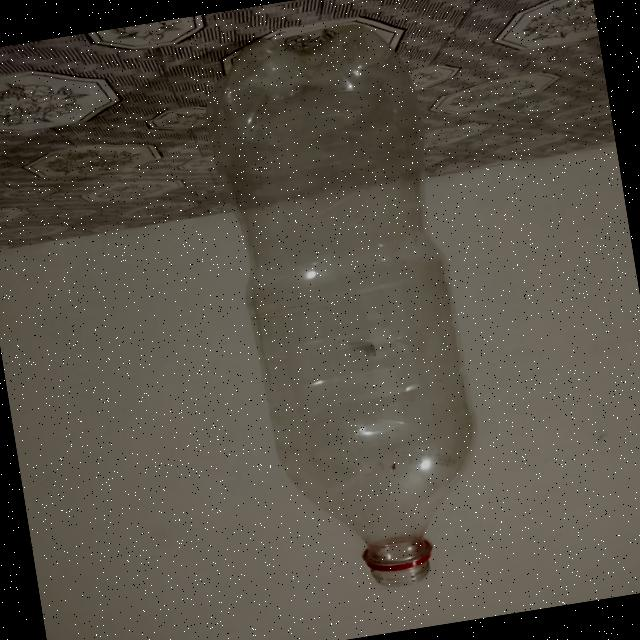bottle: (190, 11, 504, 614)
